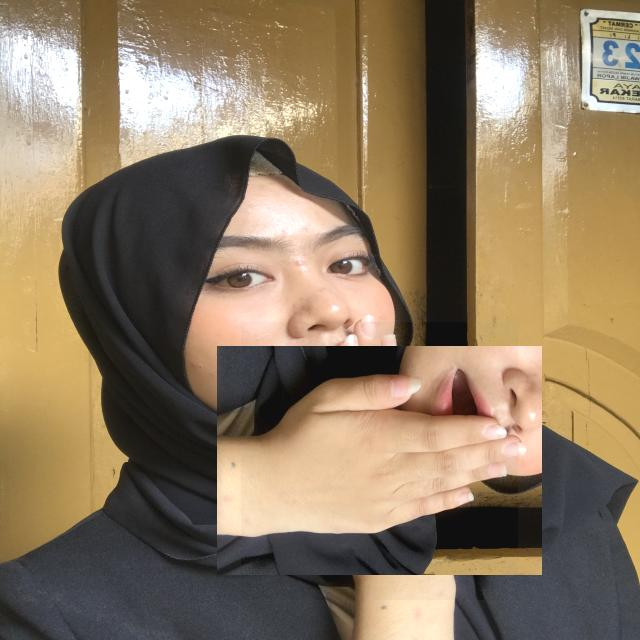ngantuk: (241, 322, 518, 600)
